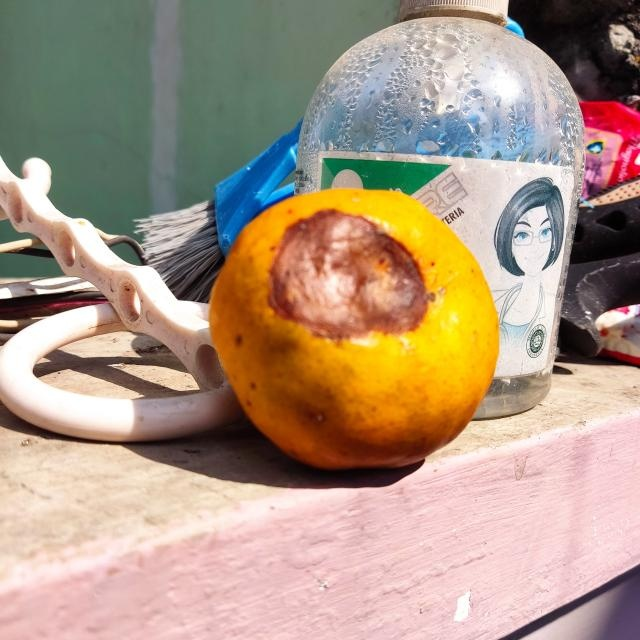agrume: (208, 188, 500, 472)
